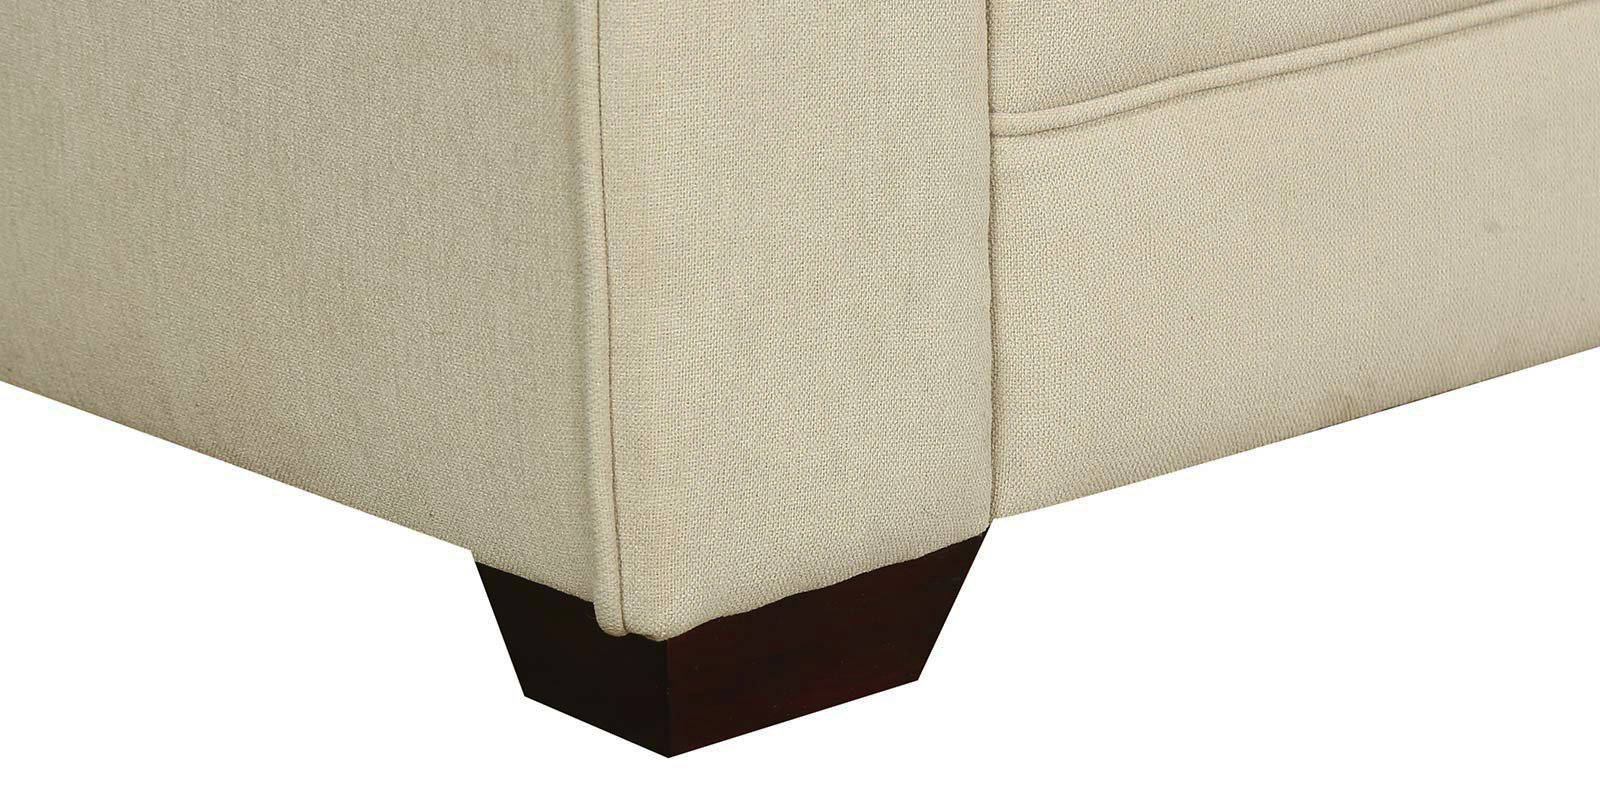Madeira Three Seater Sofa in Beige Colour by CasaCraft: (3, 3, 1600, 757)
